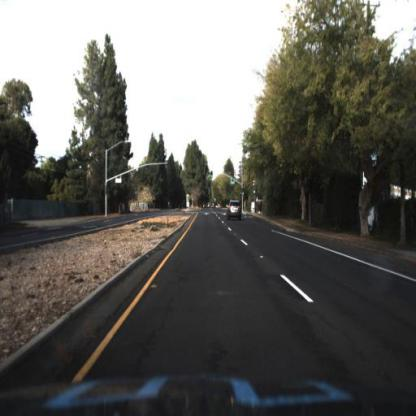car: (228, 199, 244, 222)
trafficLight-Green: (251, 186, 257, 200), (210, 170, 215, 183), (241, 188, 246, 200)
